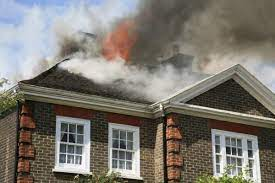smoke: (20, 1, 275, 87)
